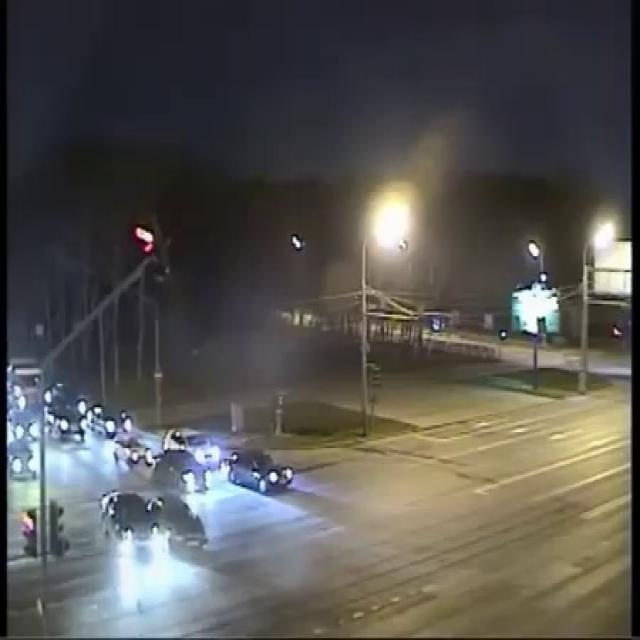accident: (101, 487, 209, 557)
